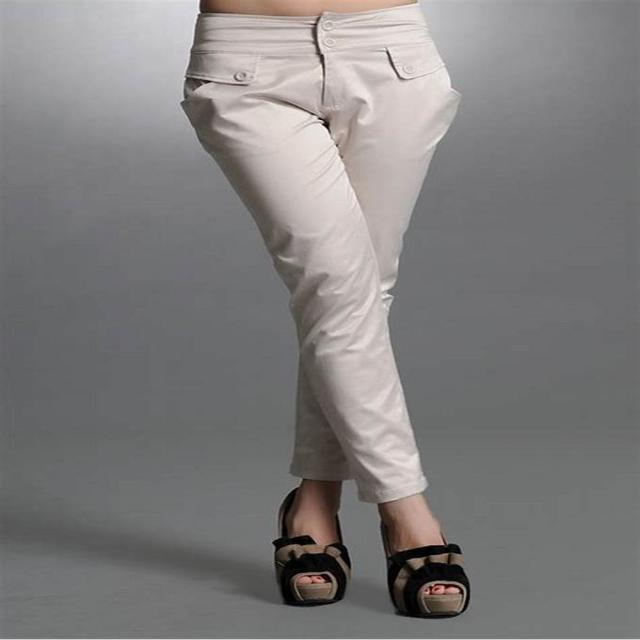long-pants: (184, 3, 459, 500)
